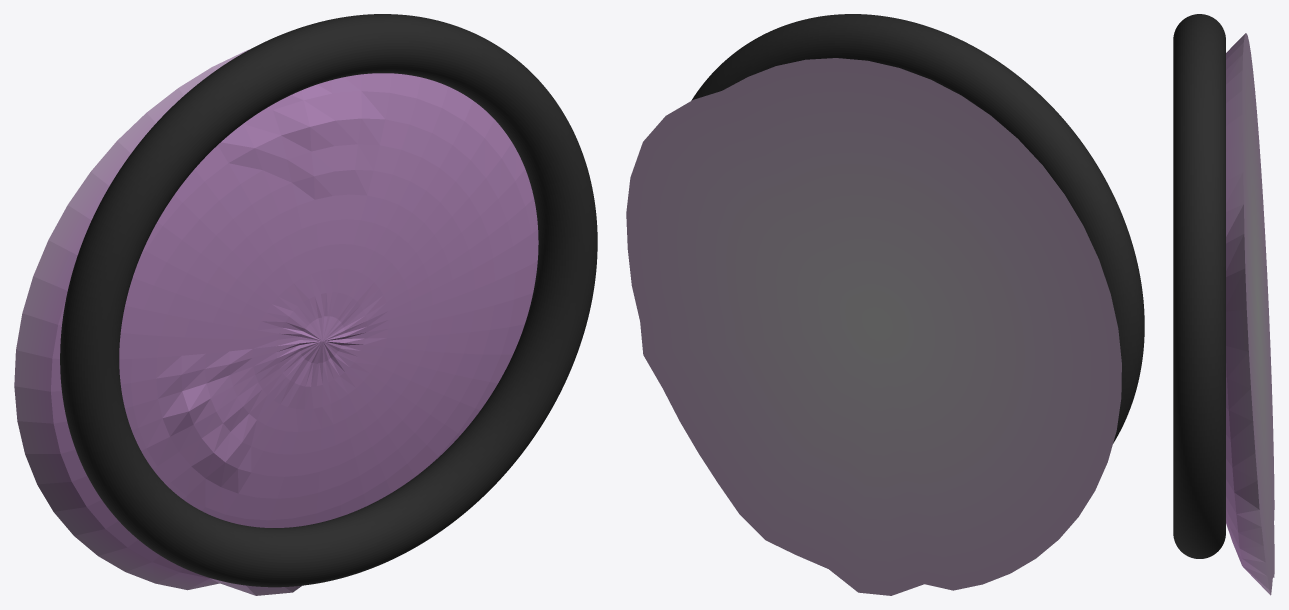
3 renders of one model, left to right at view 1: azimuth 30°, elevation 25°; view 2: azimuth 150°, elevation 25°; view 3: azimuth 270°, elevation 25°, orthographic. The views are drawn at different scales.
Parts seen in each view (by area): view 1: polyp_body_inferred_base_gray, fixed_CAD_Ring; view 2: polyp_body_inferred_base_gray, fixed_CAD_Ring; view 3: fixed_CAD_Ring, polyp_body_inferred_base_gray.
Boxes of the visible parts, x1,y1,x2,y2 form: polyp_body_inferred_base_gray: (14, 49, 538, 595); fixed_CAD_Ring: (60, 14, 597, 587); polyp_body_inferred_base_gray: (626, 58, 1121, 595); fixed_CAD_Ring: (691, 14, 1144, 443); fixed_CAD_Ring: (1173, 14, 1225, 558); polyp_body_inferred_base_gray: (1226, 33, 1274, 595).
Size of the model in its own units: 0.013 by 0.0135 by 0.00231.
